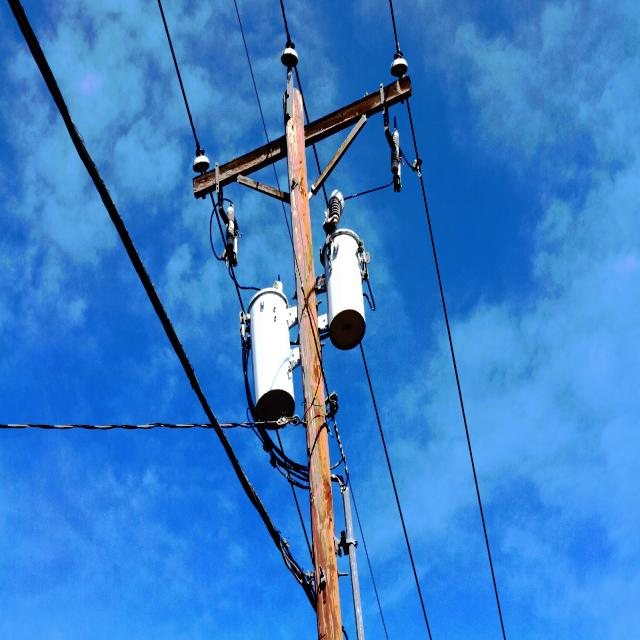poles: (193, 36, 412, 639), (240, 277, 296, 430), (320, 191, 370, 353)
wires: (7, 0, 310, 588), (413, 161, 506, 639), (342, 343, 406, 536), (0, 404, 211, 433), (160, 0, 193, 130), (418, 585, 430, 637), (255, 415, 302, 428), (388, 0, 398, 53)
